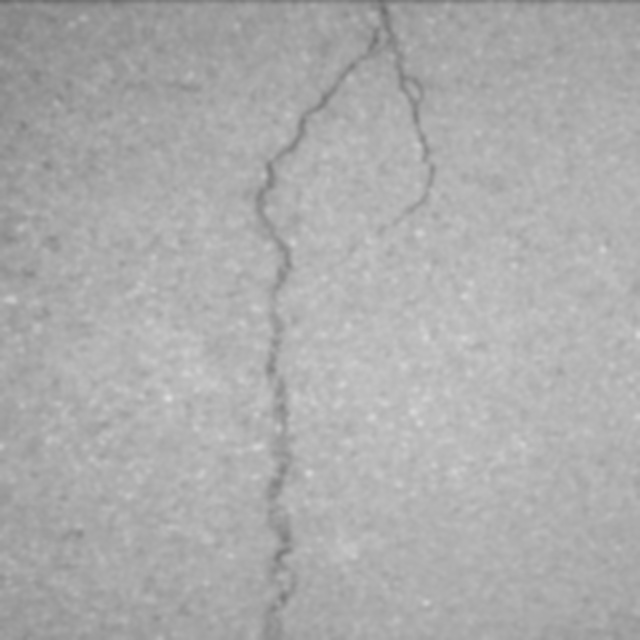SurfaceCrack: (222, 0, 461, 640)
